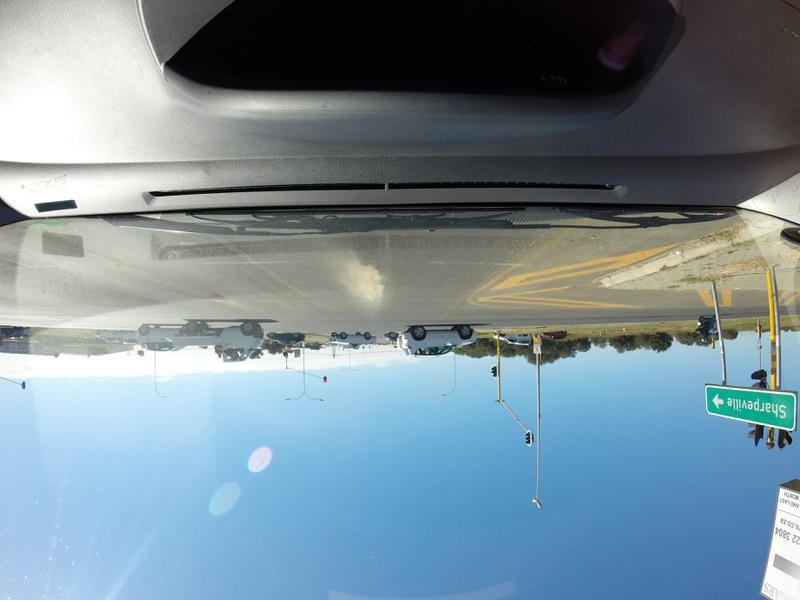pothole: (200, 295, 223, 303)
